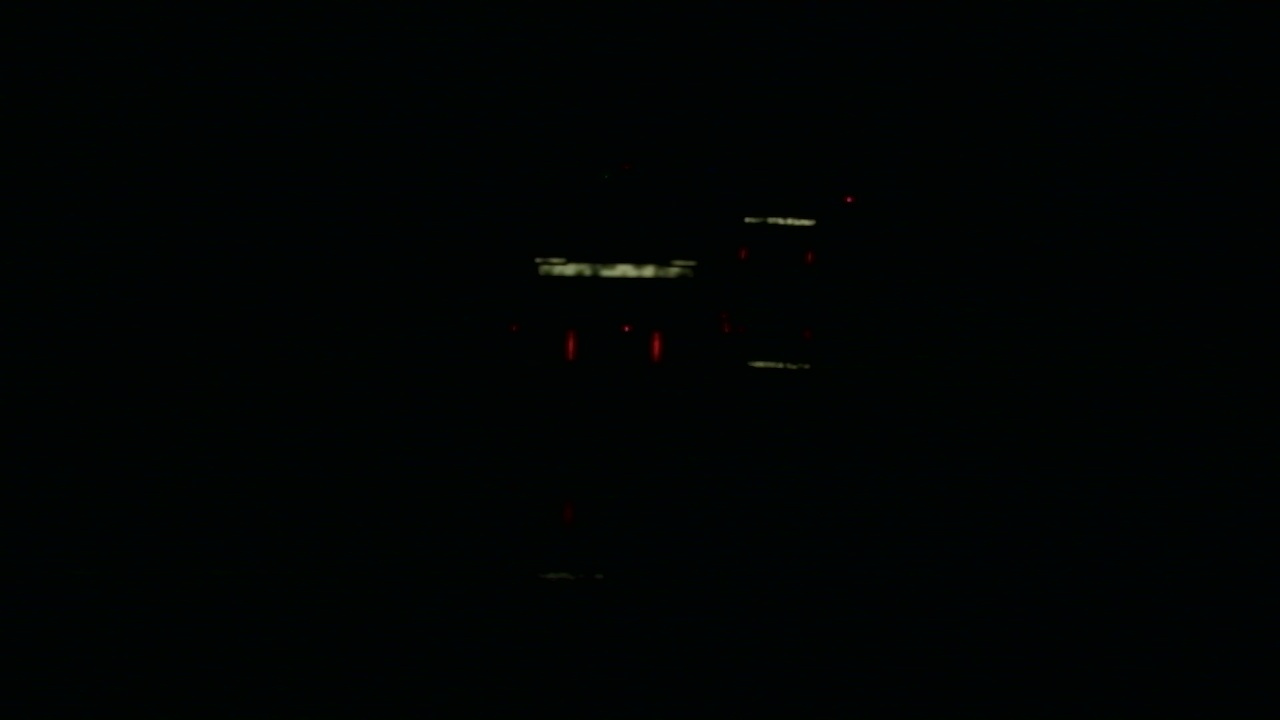lamp: (648, 330, 662, 358), (565, 329, 577, 359)
pair1: (567, 331, 661, 360)
